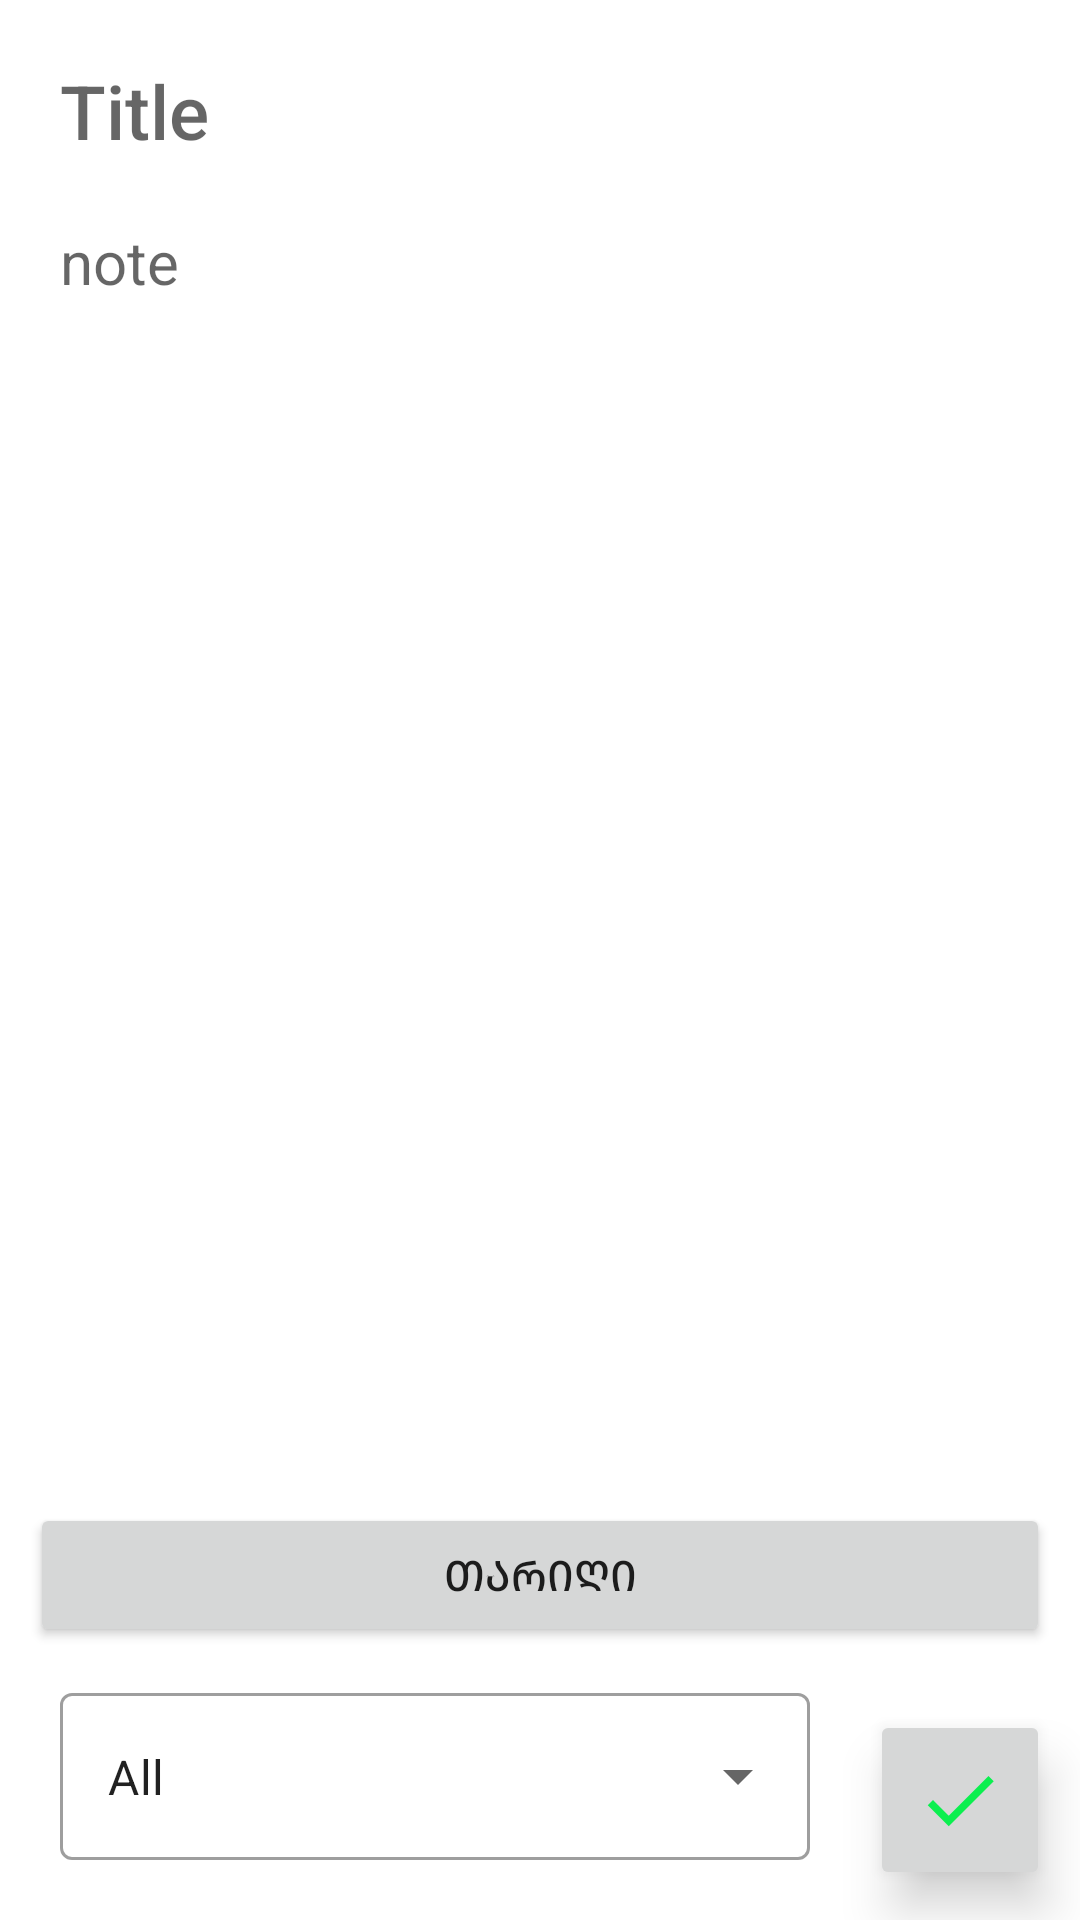

Icon bounding boxes for this 1080 × 1920 phone screenshot, format (x1, y1, x2, y2):
done: (882, 1728, 1041, 1890)
